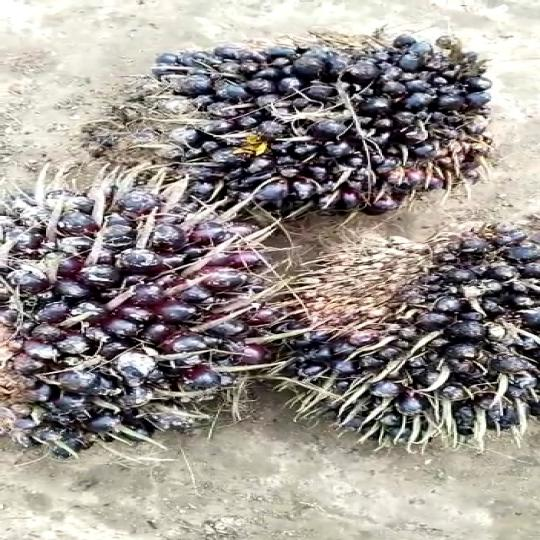mentah: (0, 180, 304, 478), (75, 32, 512, 226), (289, 196, 540, 458)
